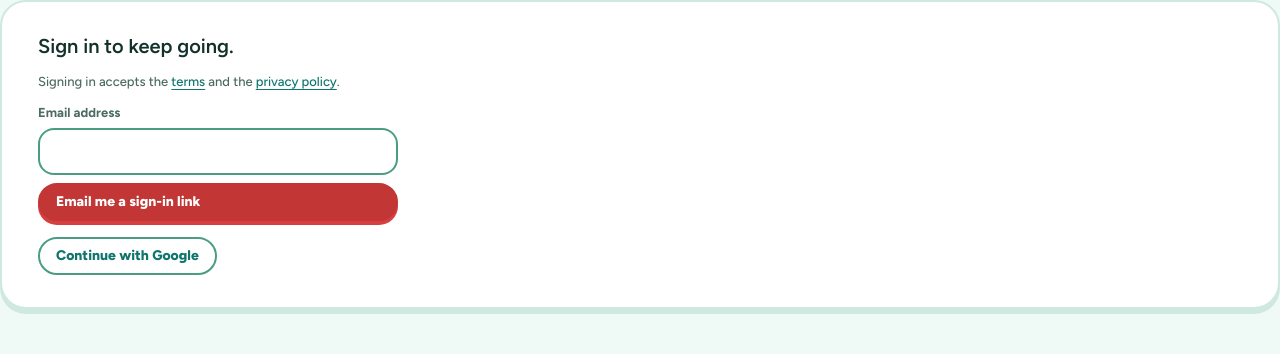
it: SignInPanelComponent › the panel names a rate limit rather than the connection
Type "learner@example.com" into the field with id "sign-in-email". click: [218, 152]
box: [38,128,398,175]
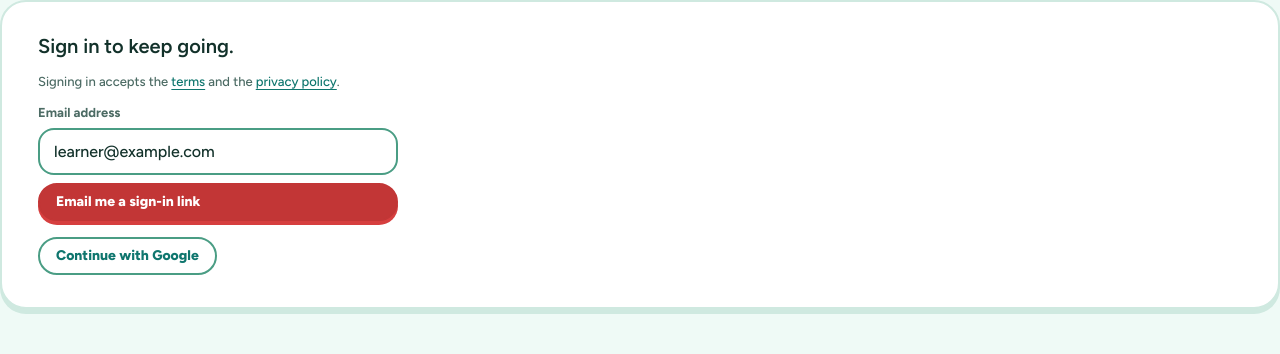
Submit the form, box [38,105,398,221]
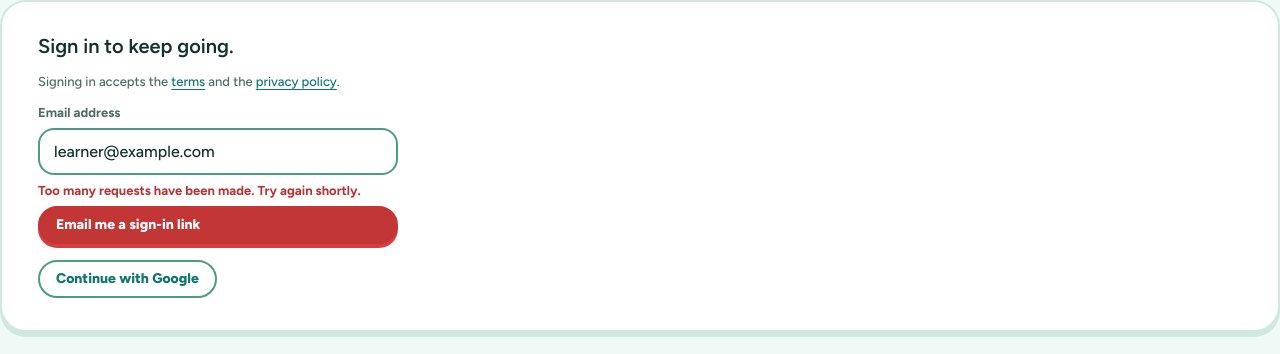
Check: the text "Too many requests" is shown, box [38,183,361,198]
